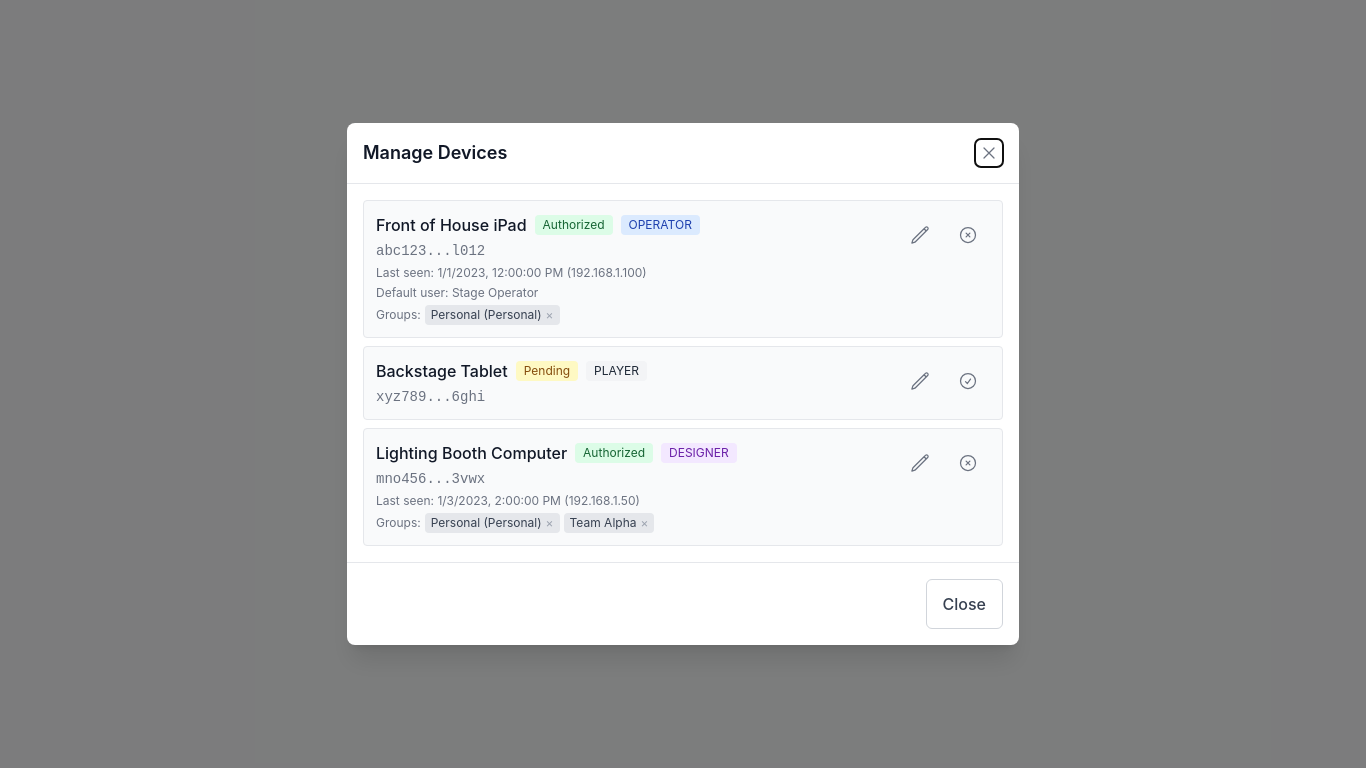
Test: DeviceManagementModal › device editing › cancels editing
Expected: the text "Front of House iPad" is shown, [376,213,527,237]
Click the button titled "Edit device" in the row of "Front of House iPad" at [920, 235], box [898,213,942,257]
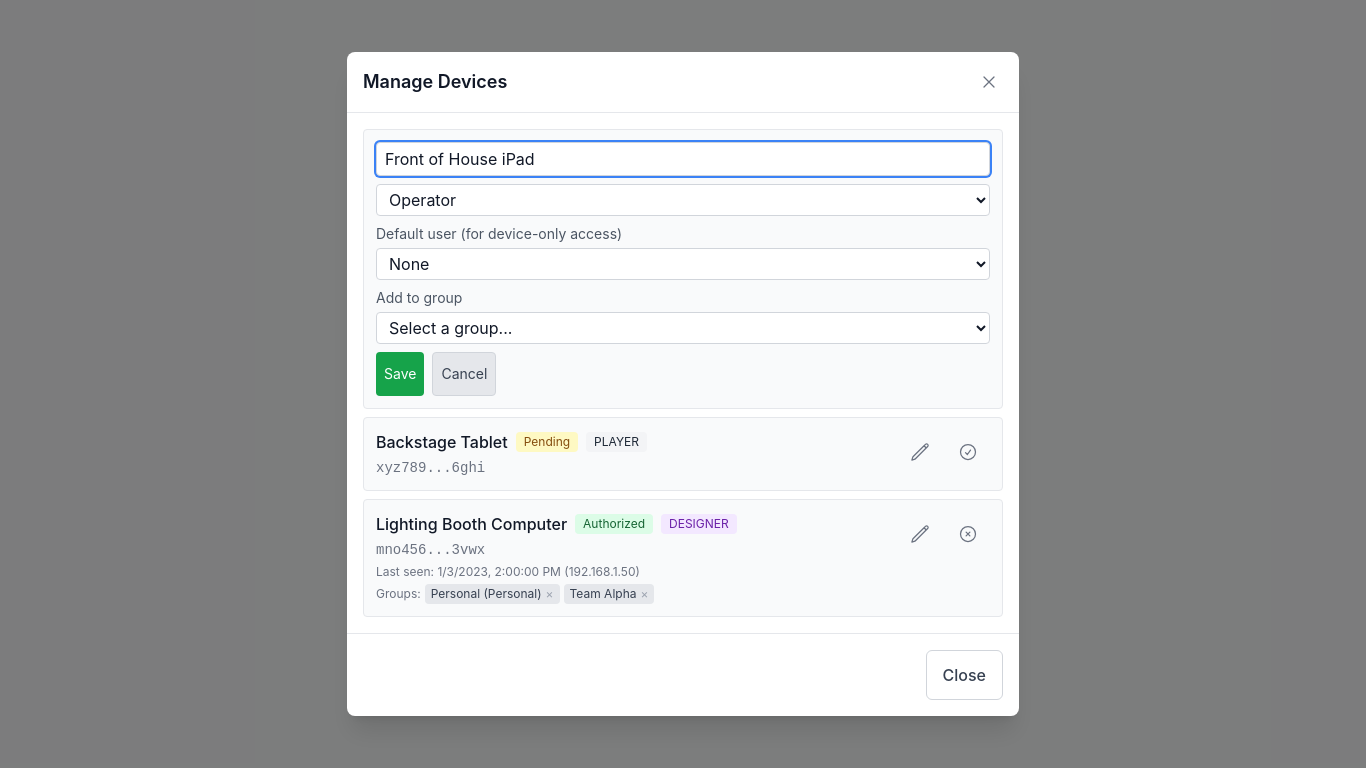
Click the button "Cancel" at [464, 374], box [432,352,496,396]
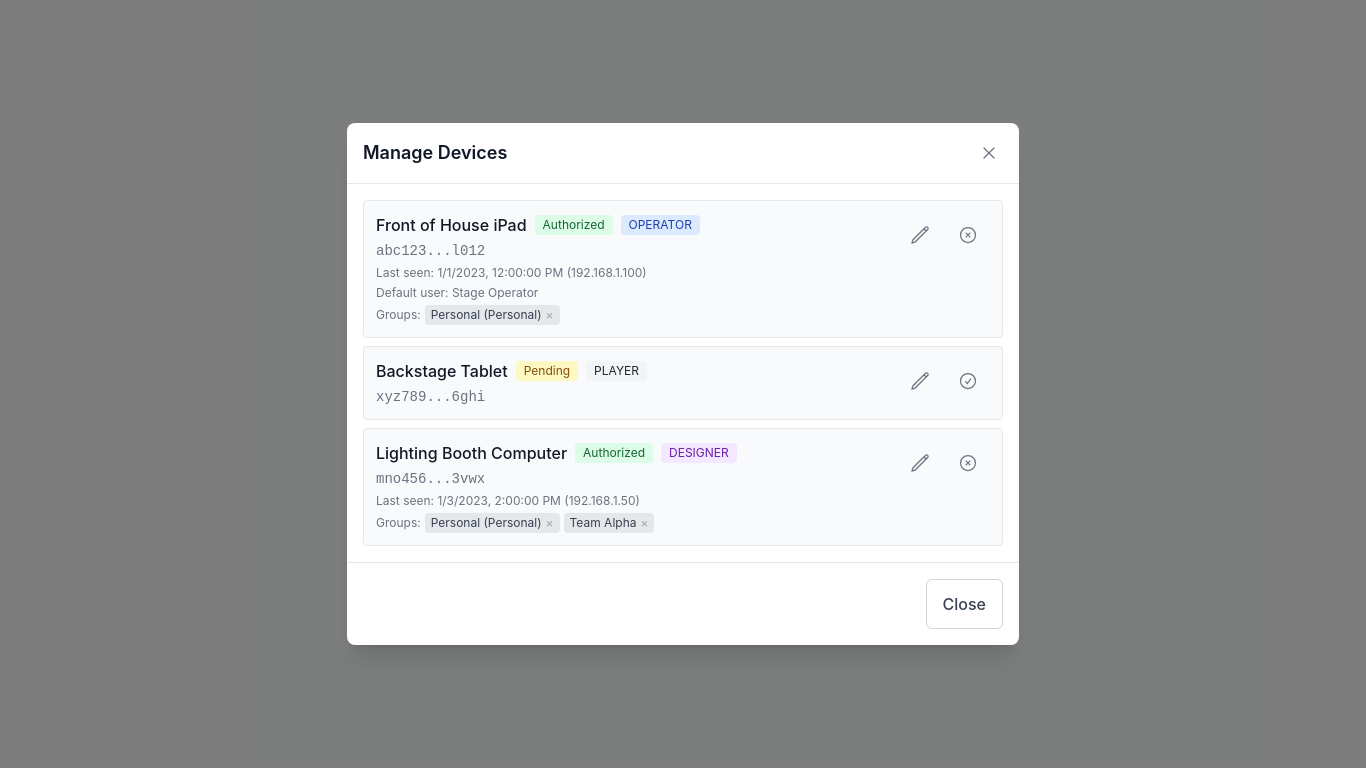
Now the text "Front of House iPad" is shown, box [376,213,527,237]
